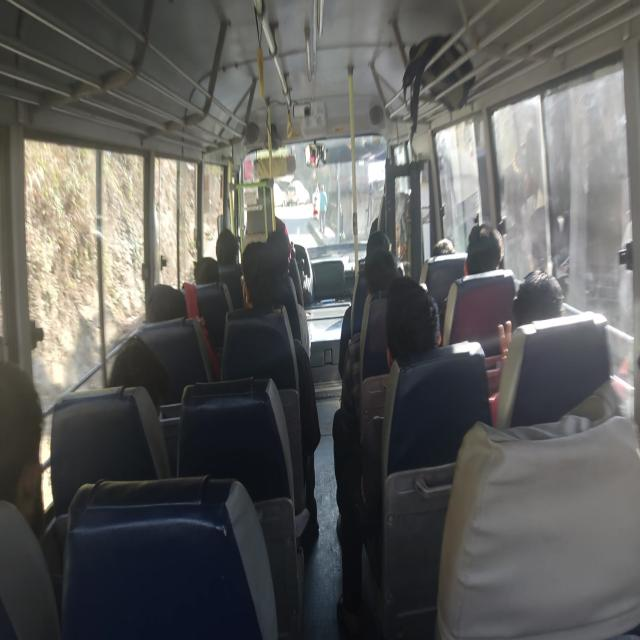person: (0, 368, 69, 629), (235, 241, 285, 322), (526, 257, 568, 345), (102, 338, 152, 405), (262, 245, 302, 312), (269, 222, 305, 292), (354, 252, 398, 303), (403, 291, 446, 340), (466, 212, 500, 270), (145, 279, 184, 329), (431, 235, 470, 273), (213, 219, 245, 263), (192, 245, 222, 289), (367, 222, 393, 264)
